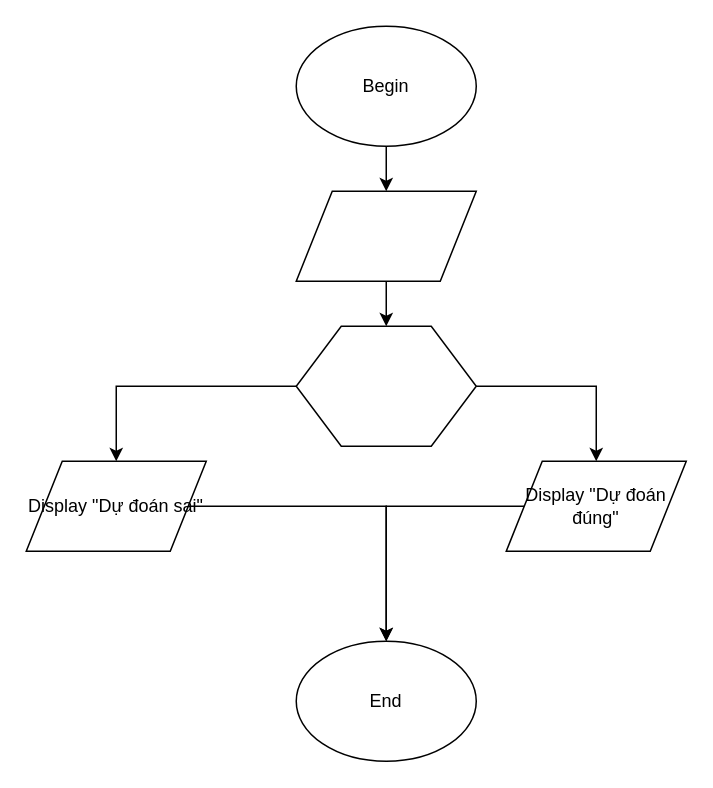
Image size: 713x788. Some labels were removed from this diagram. The box of each missing label's shape, as (x1, y1, x2, y2) in pixels:
Input X chạy ngẫu nhiên từ 0-9: (295, 190, 476, 281)
Y=X: (295, 325, 476, 446)
